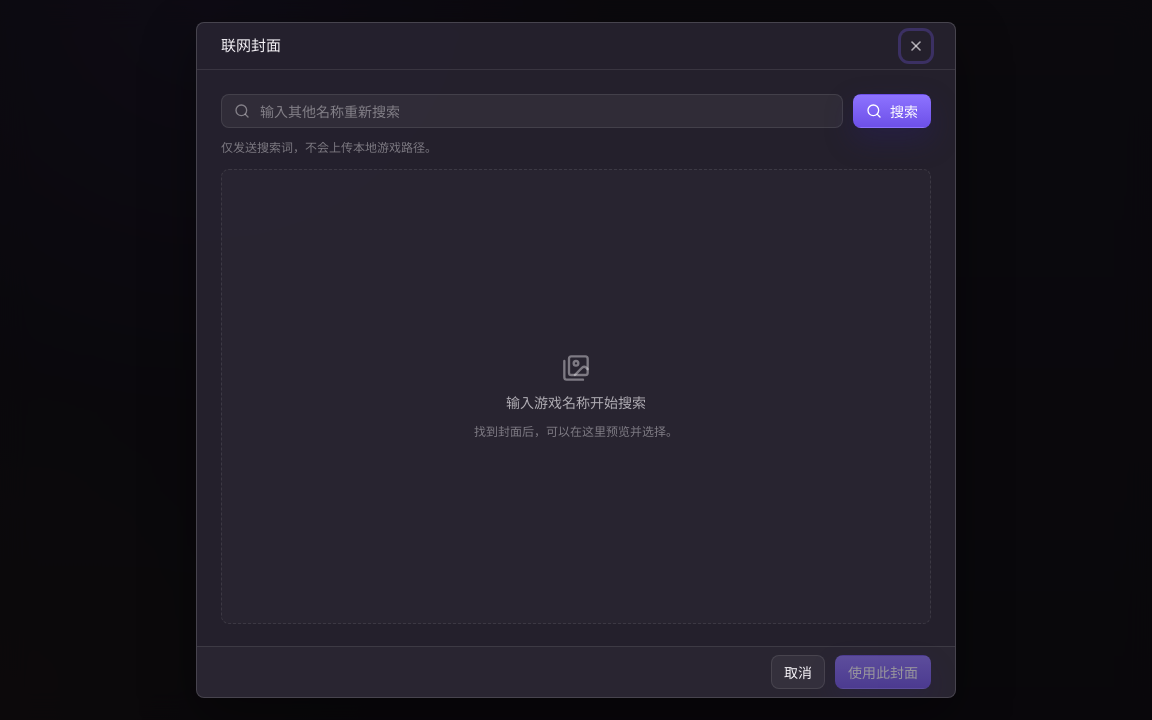
Test: onlineCoverDialog › prevents search and shows an error for blank input
This screenshot has width=1152, height=720.
Expected: the dialog shows "联网封面", [221,36,281,55]
Clear the search field with placeholder "输入其他名称重新搜索" at point(540, 111), box [250,102,830,120]
Click the submit button at point(892, 111), box [853,94,931,128]
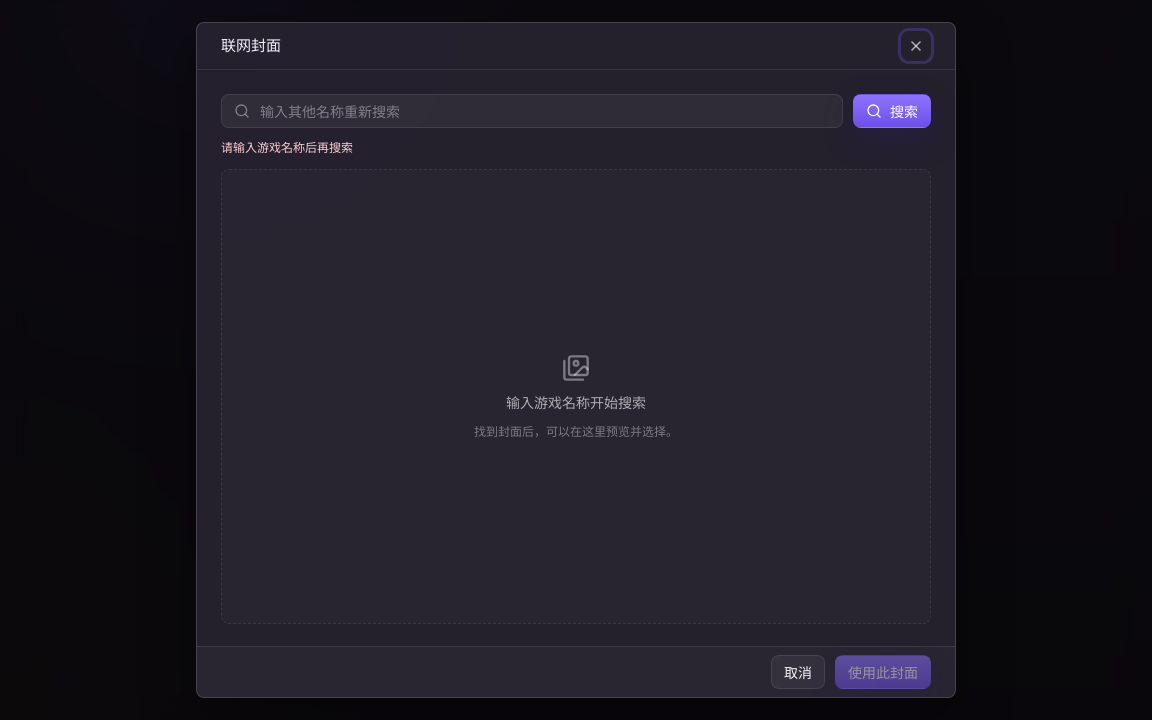
Expected: the dialog shows "请输入游戏名称后再搜索", [221,140,353,155]
